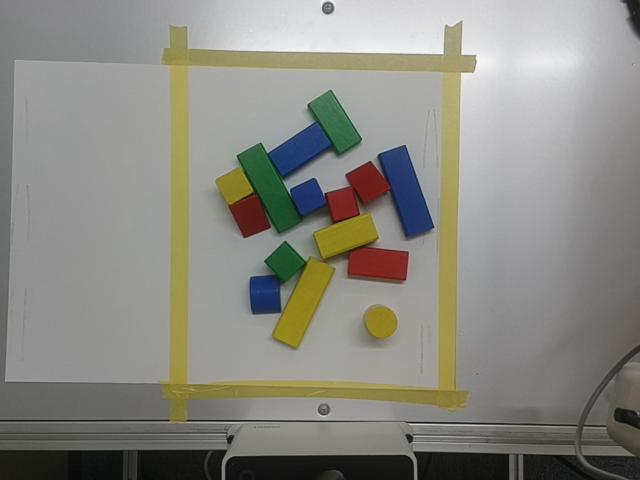blue_cube: (292, 179, 327, 215)
blue_longrect: (380, 146, 434, 236)
blue_rect: (270, 123, 331, 175)
cylinder: (365, 306, 398, 337)
green_cube: (264, 243, 306, 282)
green_longrect: (237, 143, 303, 232)
green_rect: (307, 91, 360, 152)
half_cylinder: (250, 276, 281, 314)
red_cube: (327, 189, 360, 220)
red_rect: (349, 249, 409, 280)
triangle: (230, 195, 271, 238), (347, 162, 390, 201)
yellow_cube: (216, 168, 254, 204)
yellow_longrect: (272, 257, 336, 348)
yelow_rect: (314, 214, 378, 257)
